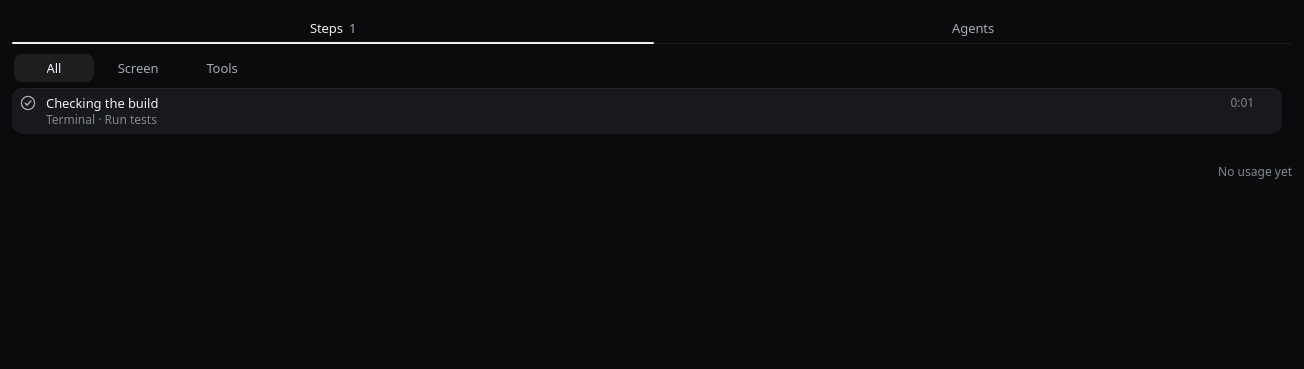
Test: loads saved command details with replay and preserves them when switching screens
The width and height of the screenshot is (1304, 369).
Click the button "Checking the build Terminal · Run tests 0:01" at (102, 103), box [12,88,1282,134]
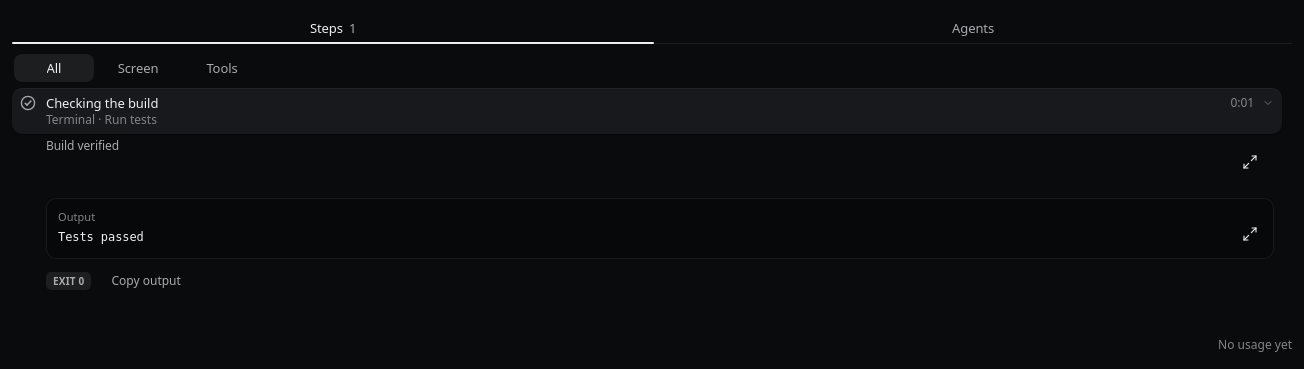
Expected: the text "Tests passed" is shown, [58,230,144,244]
Expected: the text "Build verified" is shown, [46,137,119,154]
